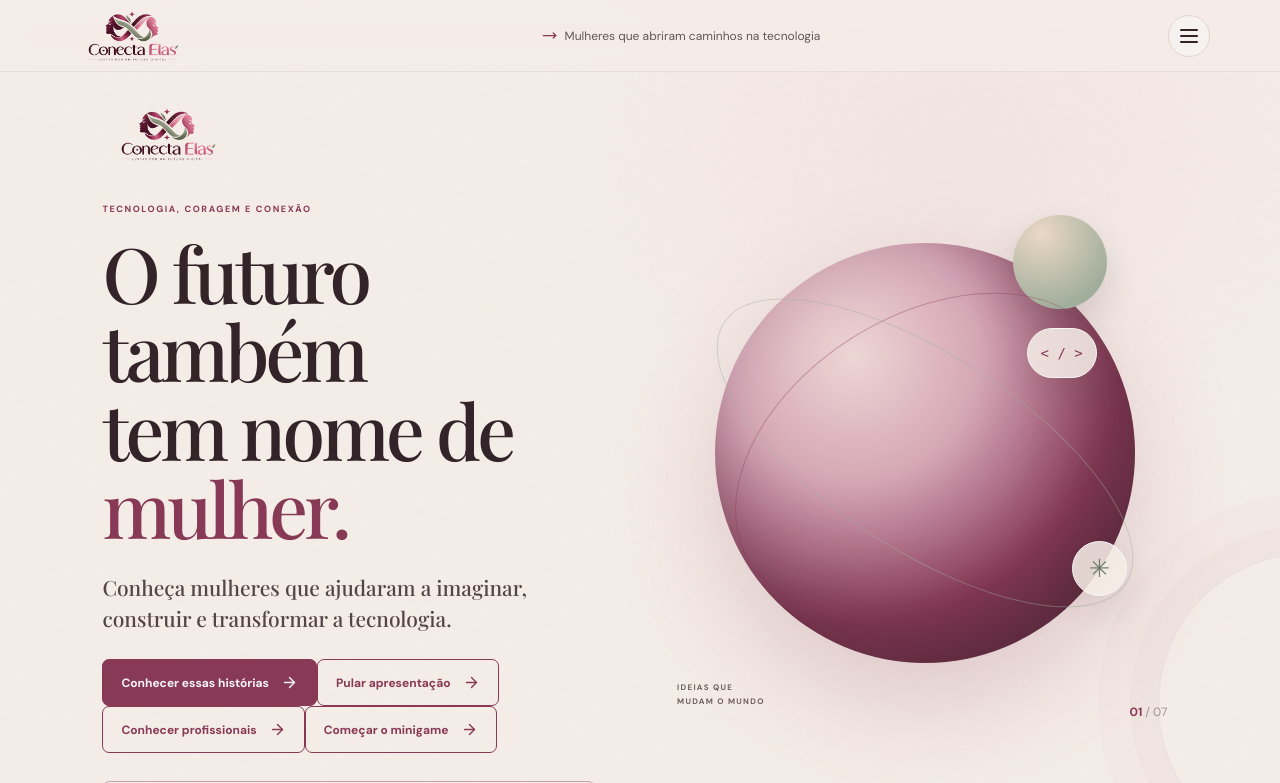
Test: Conecta Elas story and platform › keeps future opportunities clearly unconfirmed
The width and height of the screenshot is (1280, 783).
Click the button "Pular apresentação" at point(408, 683), box 317,659 -> 498,706
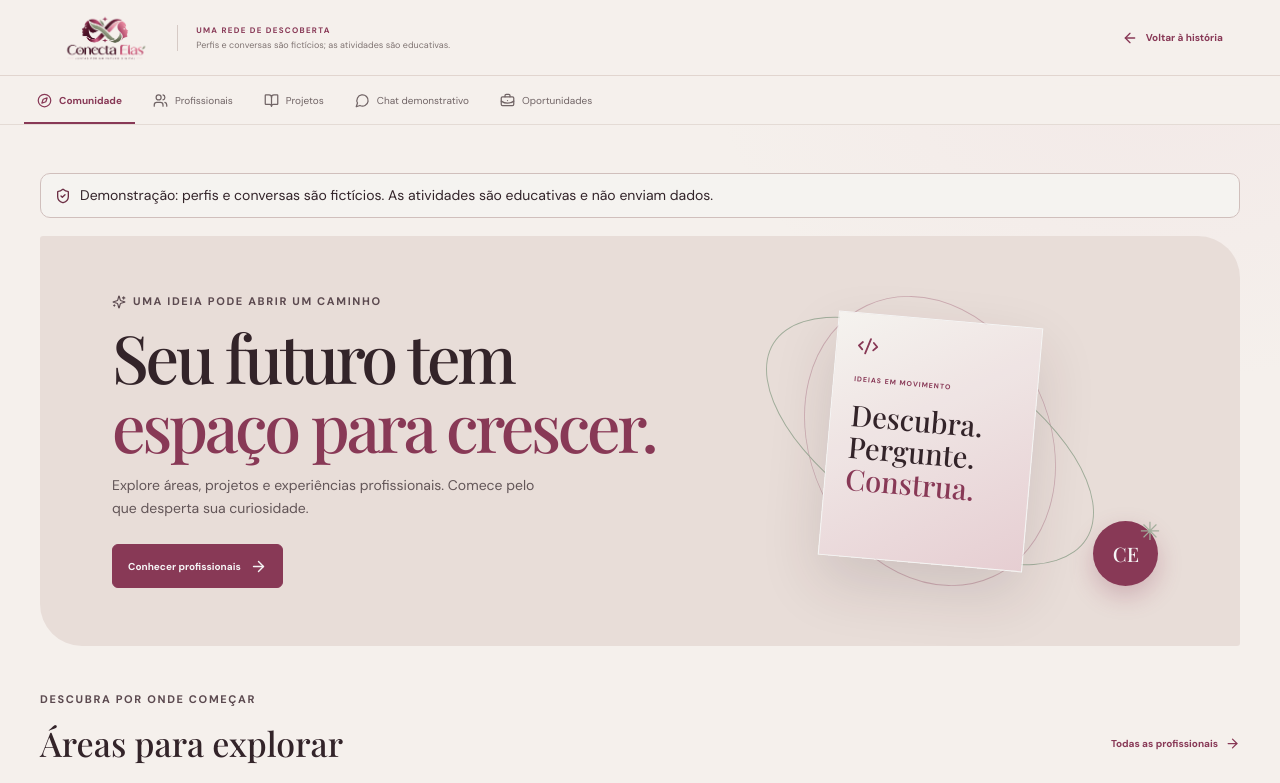
Click the button "Oportunidades" at point(546, 100), box 487,76 -> 605,124
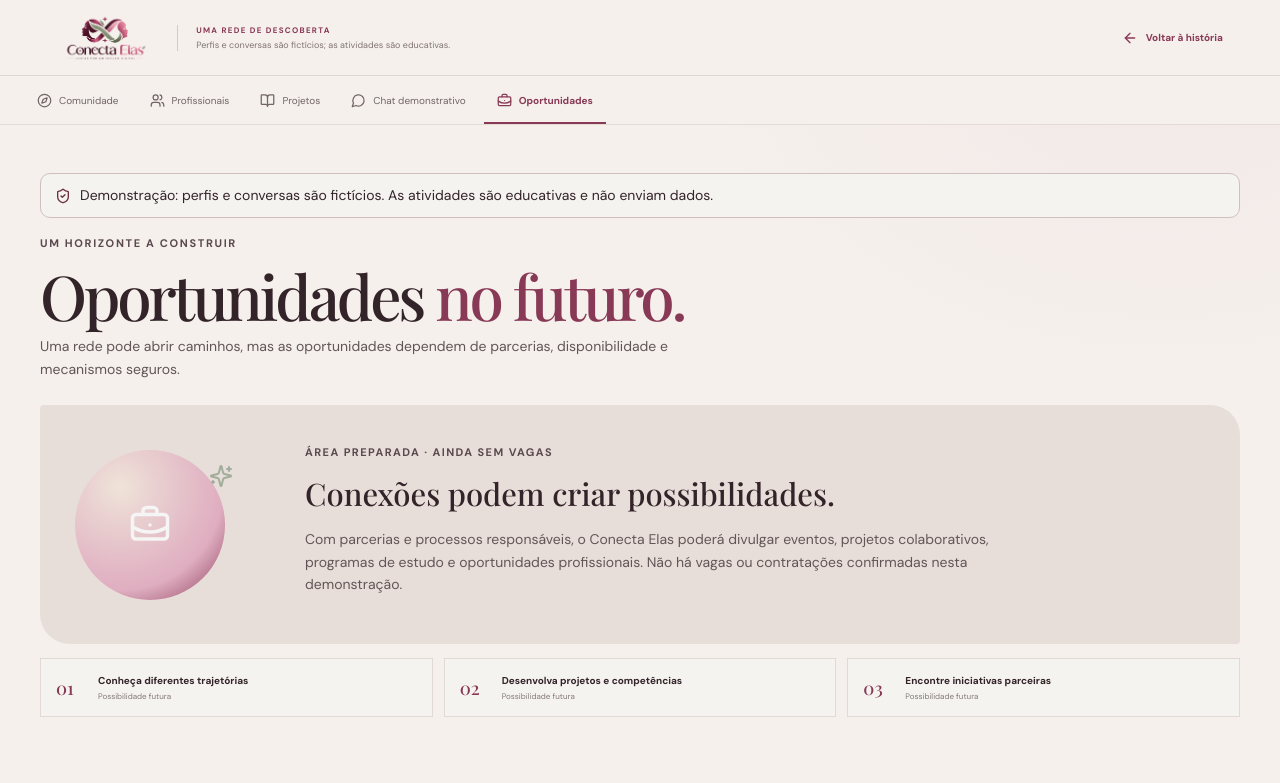
Now the text "Não há vagas ou contratações confirmadas" is shown, box 305,530 -> 989,593
